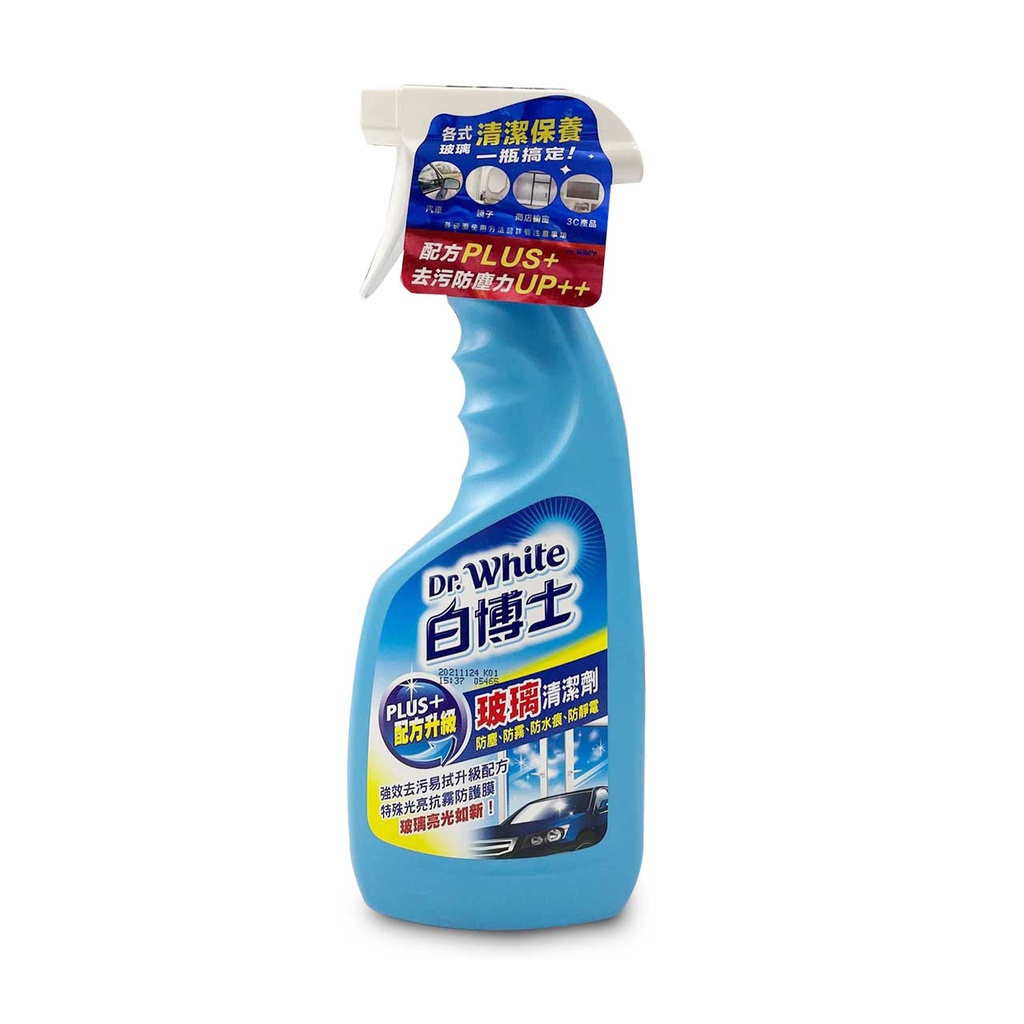cleaner: (316, 81, 661, 935)
